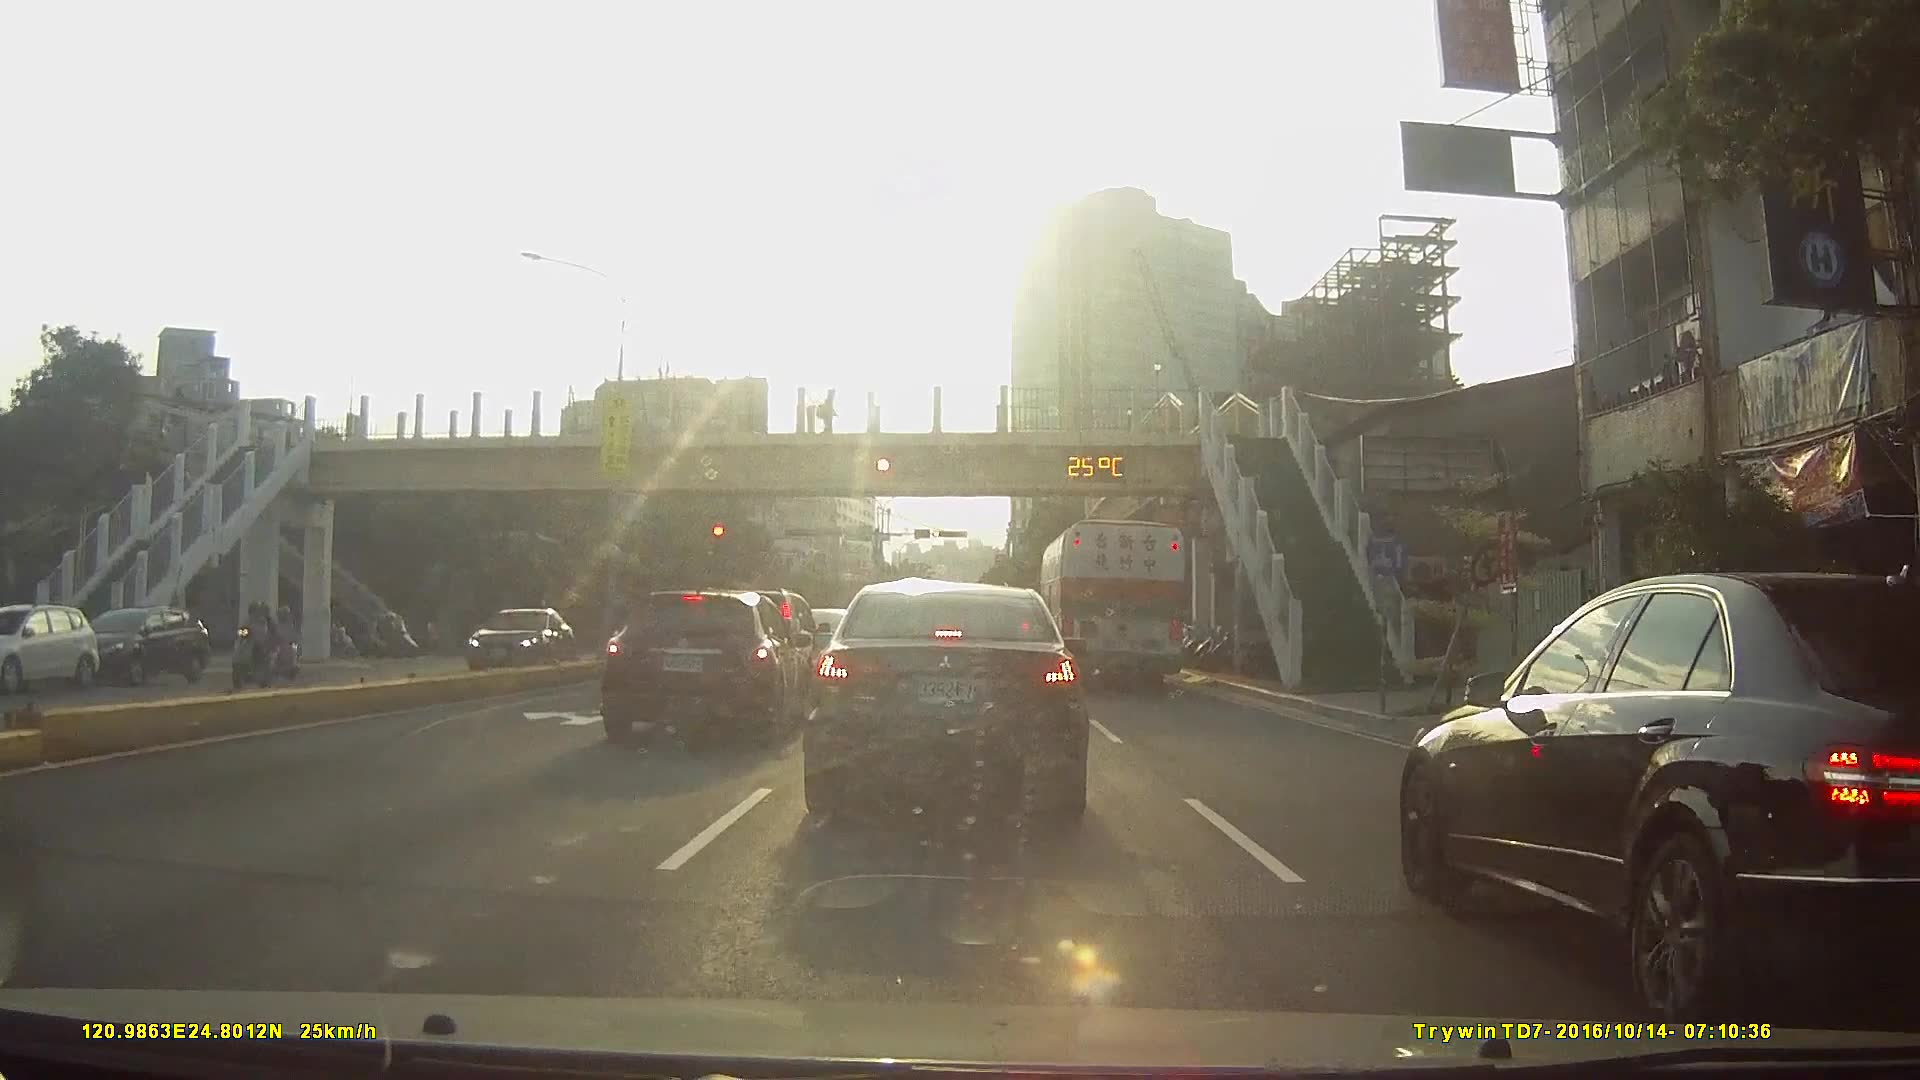pedestrian: (817, 390, 839, 438)
rider: (226, 597, 277, 692), (361, 612, 428, 659)
vehicle: (1391, 570, 1920, 1016), (800, 578, 1089, 820), (594, 585, 811, 744), (1038, 517, 1190, 692), (71, 607, 207, 686), (0, 601, 99, 692), (454, 606, 569, 670)
